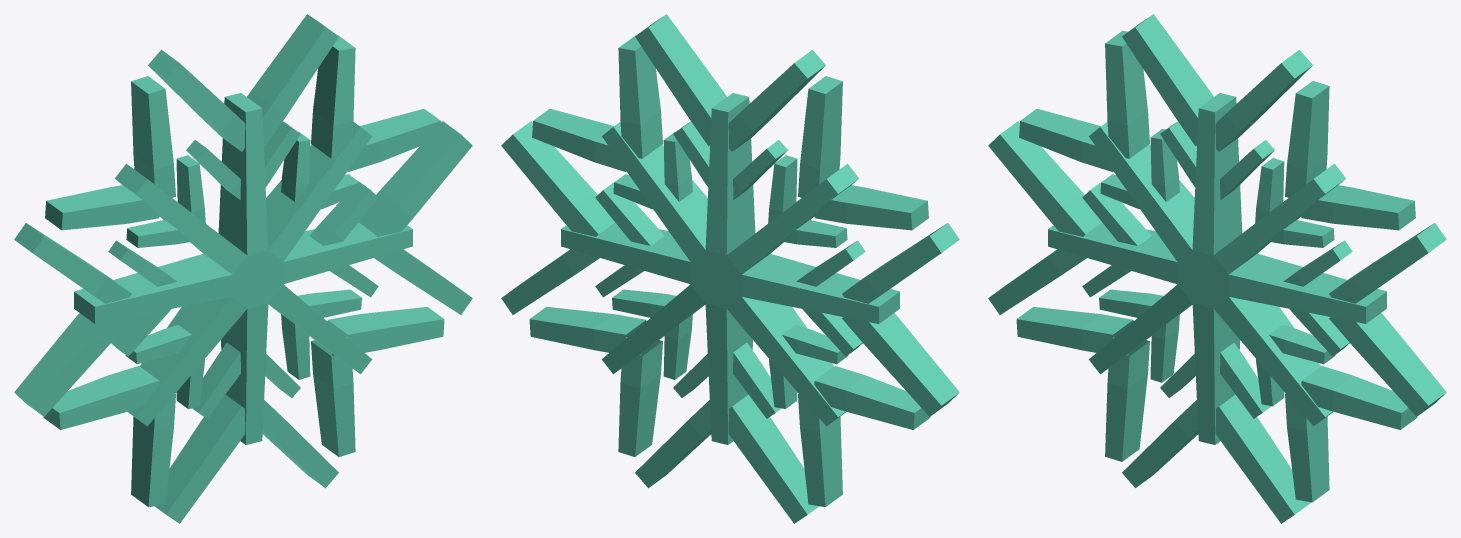
File: Snowflake1.fbx
3 renders of one model, left to right at view 1: azimuth 30°, elevation 25°; view 2: azimuth 150°, elevation 25°; view 3: azimuth 330°, elevation 25°, orthographic.
Visible parts, largest first — view 1: Snowflake1; view 2: Snowflake1; view 3: Snowflake1.
Boxes of the visible parts, box(x1,y1,x2,y2) form: Snowflake1: box(14, 14, 472, 523); Snowflake1: box(501, 14, 959, 523); Snowflake1: box(988, 14, 1446, 523).
Size of the model in its own units: 89.48 by 89.48 by 10.08.
